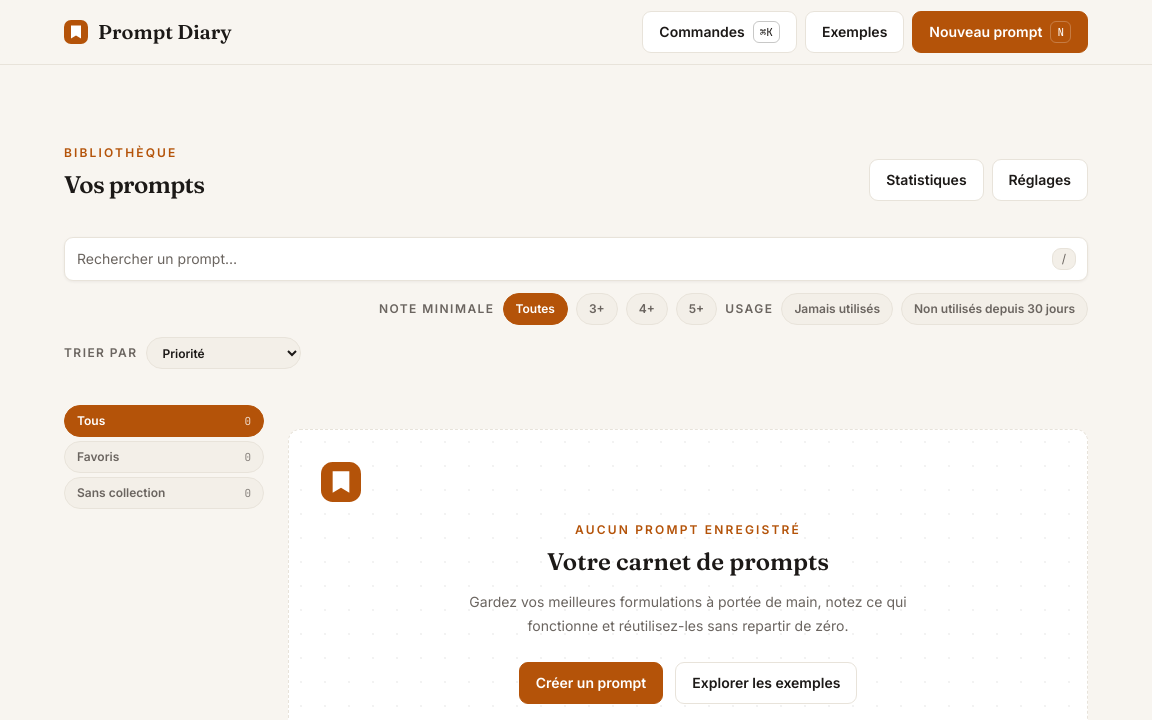
Prompt Diary prompt library › filters the example library and imports one example with its source tag
Expected: the text "Aucun prompt enregistré" is shown, [575, 522, 801, 537]
Step 1. Click the button "Exemples" → (855, 32), box [805, 11, 904, 53]
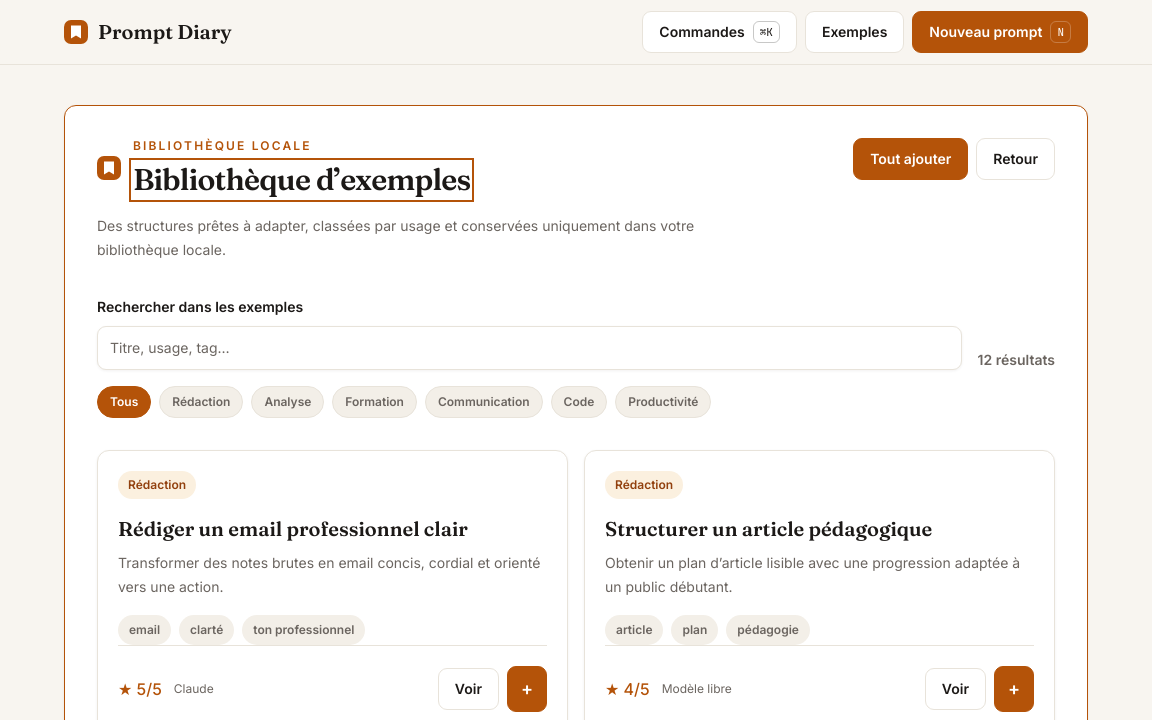
Result: the heading "Bibliothèque d’exemples" is shown at [133, 162, 470, 198]
Step 2. Click the button "Code" → (579, 402), box [551, 386, 607, 418]
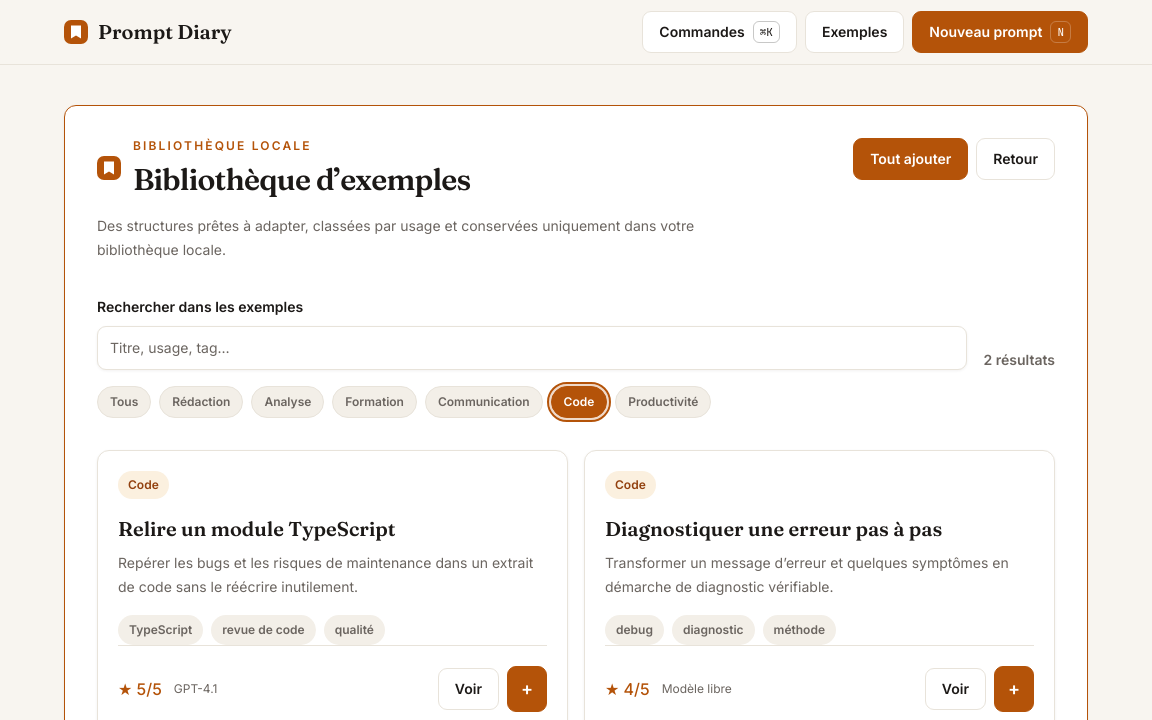
Result: the text "2 résultats" is shown at [984, 350, 1055, 370]
Result: the heading "Relire un module TypeScript" is shown at [118, 516, 396, 541]
Step 3. Click the button named "Ajouter Relire un module TypeScript" → (527, 689), box [507, 666, 547, 712]
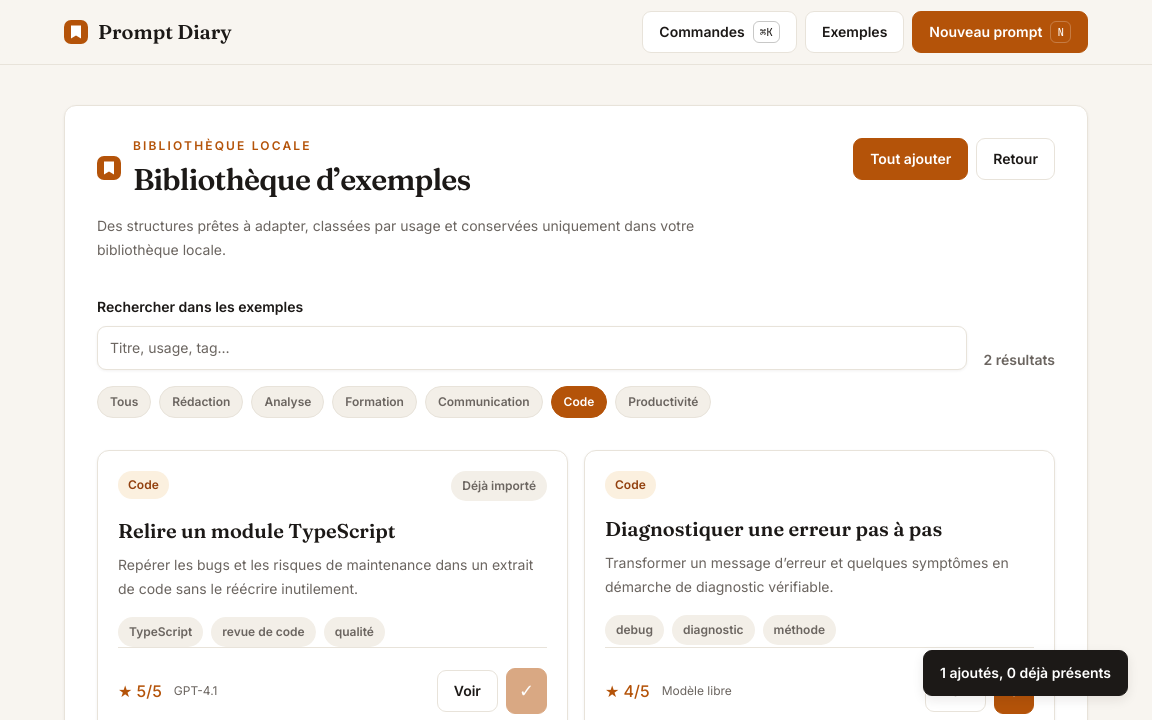
Result: the text "1 ajoutés, 0 déjà présents" is shown at [923, 650, 1128, 696]
